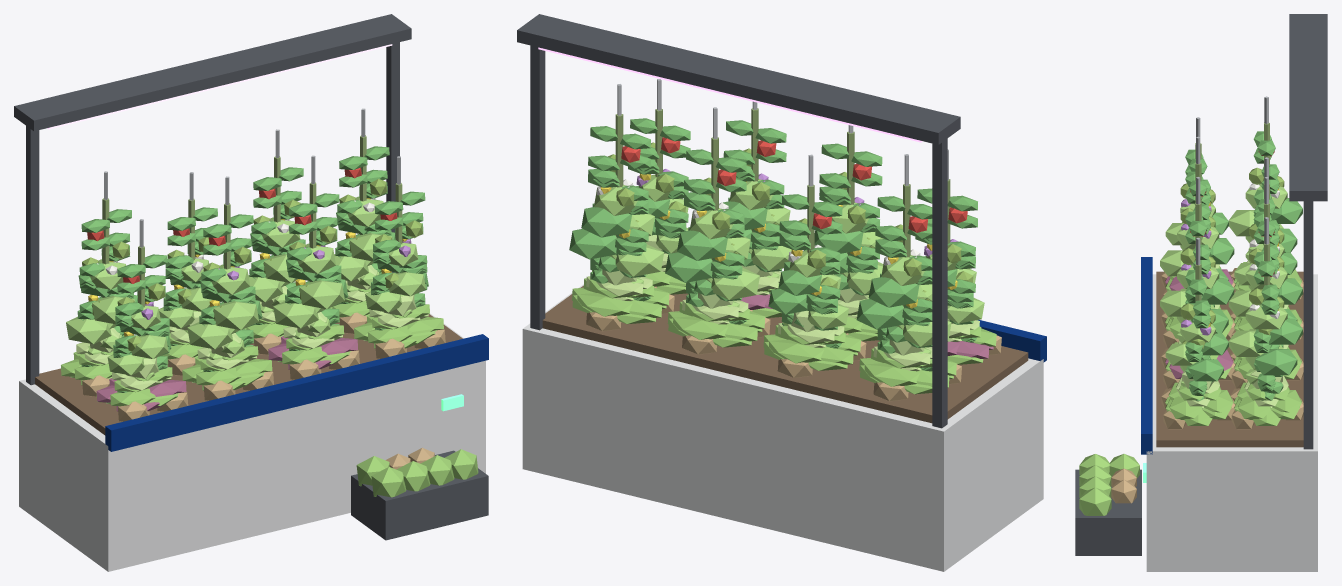
File: plantas.glb
3 views of the same model, side by side, from view 1: azimuth 30°, elevation 25°; view 2: azimuth 150°, elevation 25°; view 3: azimuth 270°, elevation 25° (orthographic). The views are drawn at different scales.
Parts seen in each view (by area): view 1: PLANTA_Alface_0_Vazio, PLANTA_Alface_4_Colheita, PLANTA_Batata_4_Crescida, PLANTA_Tomate_4_FrutosVerdes, PLANTA_Tomate_5_Colheita, PLANTA_Batata_5_Colheita, PLANTA_Tomate_3_Florada, PLANTA_Batata_3_Jovem, PLANTA_Tomate_2_Jovem; view 2: PLANTA_Alface_0_Vazio, PLANTA_Batata_4_Crescida, PLANTA_Alface_4_Colheita, PLANTA_Tomate_4_FrutosVerdes, PLANTA_Tomate_5_Colheita, PLANTA_Tomate_3_Florada, PLANTA_Batata_5_Colheita, PLANTA_Tomate_2_Jovem, PLANTA_Batata_3_Jovem; view 3: PLANTA_Alface_0_Vazio, PLANTA_Batata_4_Crescida, PLANTA_Alface_4_Colheita, PLANTA_Tomate_4_FrutosVerdes, PLANTA_Batata_5_Colheita, PLANTA_Tomate_5_Colheita, PLANTA_Tomate_3_Florada, PLANTA_Batata_3_Jovem.
Boxes of the visible parts, left/top/right/bottom form: PLANTA_Alface_0_Vazio: left=14, top=14, right=488, bottom=571; PLANTA_Alface_4_Colheita: left=61, top=265, right=488, bottom=540; PLANTA_Batata_4_Crescida: left=66, top=196, right=428, bottom=375; PLANTA_Tomate_4_FrutosVerdes: left=77, top=108, right=427, bottom=392; PLANTA_Tomate_5_Colheita: left=79, top=146, right=427, bottom=371; PLANTA_Batata_5_Colheita: left=82, top=312, right=445, bottom=469; PLANTA_Tomate_3_Florada: left=77, top=173, right=427, bottom=371; PLANTA_Batata_3_Jovem: left=87, top=259, right=412, bottom=380; PLANTA_Tomate_2_Jovem: left=79, top=234, right=427, bottom=372; PLANTA_Alface_0_Vazio: left=517, top=14, right=1046, bottom=571; PLANTA_Batata_4_Crescida: left=569, top=169, right=984, bottom=346; PLANTA_Alface_4_Colheita: left=572, top=235, right=996, bottom=394; PLANTA_Tomate_4_FrutosVerdes: left=588, top=79, right=977, bottom=369; PLANTA_Tomate_5_Colheita: left=588, top=118, right=977, bottom=371; PLANTA_Tomate_3_Florada: left=588, top=145, right=975, bottom=370; PLANTA_Batata_5_Colheita: left=586, top=286, right=1001, bottom=401; PLANTA_Tomate_2_Jovem: left=590, top=209, right=975, bottom=349; PLANTA_Batata_3_Jovem: left=592, top=234, right=931, bottom=354; PLANTA_Alface_0_Vazio: left=1141, top=14, right=1327, bottom=571; PLANTA_Batata_4_Crescida: left=1160, top=183, right=1302, bottom=381; PLANTA_Alface_4_Colheita: left=1075, top=260, right=1301, bottom=555; PLANTA_Tomate_4_FrutosVerdes: left=1180, top=96, right=1284, bottom=391; PLANTA_Batata_5_Colheita: left=1111, top=268, right=1303, bottom=503; PLANTA_Tomate_5_Colheita: left=1185, top=140, right=1279, bottom=395; PLANTA_Tomate_3_Florada: left=1185, top=158, right=1279, bottom=394; PLANTA_Batata_3_Jovem: left=1177, top=251, right=1283, bottom=393.
Bounding box in the file's own units: 2.2 × 2.21 × 1.32.
